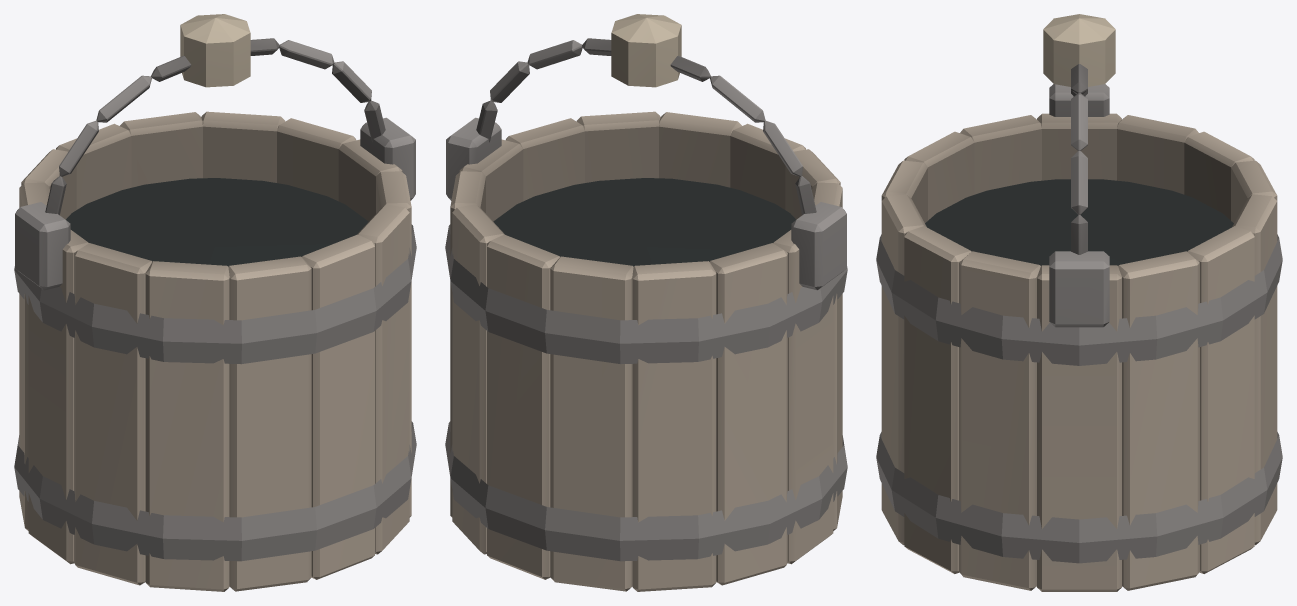
File: well_bucket.glb
3 renders of one model, left to right at view 1: azimuth 30°, elevation 25°; view 2: azimuth 150°, elevation 25°; view 3: azimuth 270°, elevation 25°, orthographic.
Parts seen in each view (by area): view 1: bail; view 2: bail; view 3: bail.
Part boxes in pixels (left/top/right/bottom): bail: left=14, top=14, right=416, bottom=591; bail: left=445, top=14, right=847, bottom=591; bail: left=876, top=14, right=1282, bottom=591.
Size of the model in its own units: 0.36 by 0.45 by 0.336.
